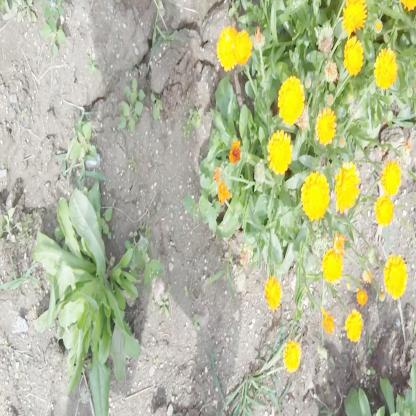marigold: (302, 170, 328, 219), (280, 75, 306, 123), (268, 129, 293, 171), (336, 164, 359, 209), (385, 256, 408, 300), (373, 48, 397, 89), (219, 25, 236, 69), (343, 0, 365, 33), (317, 108, 337, 144), (381, 160, 401, 194), (324, 251, 344, 285), (344, 39, 362, 75), (265, 276, 282, 312), (285, 340, 302, 372), (234, 29, 250, 63), (374, 196, 391, 227), (345, 310, 362, 340)
